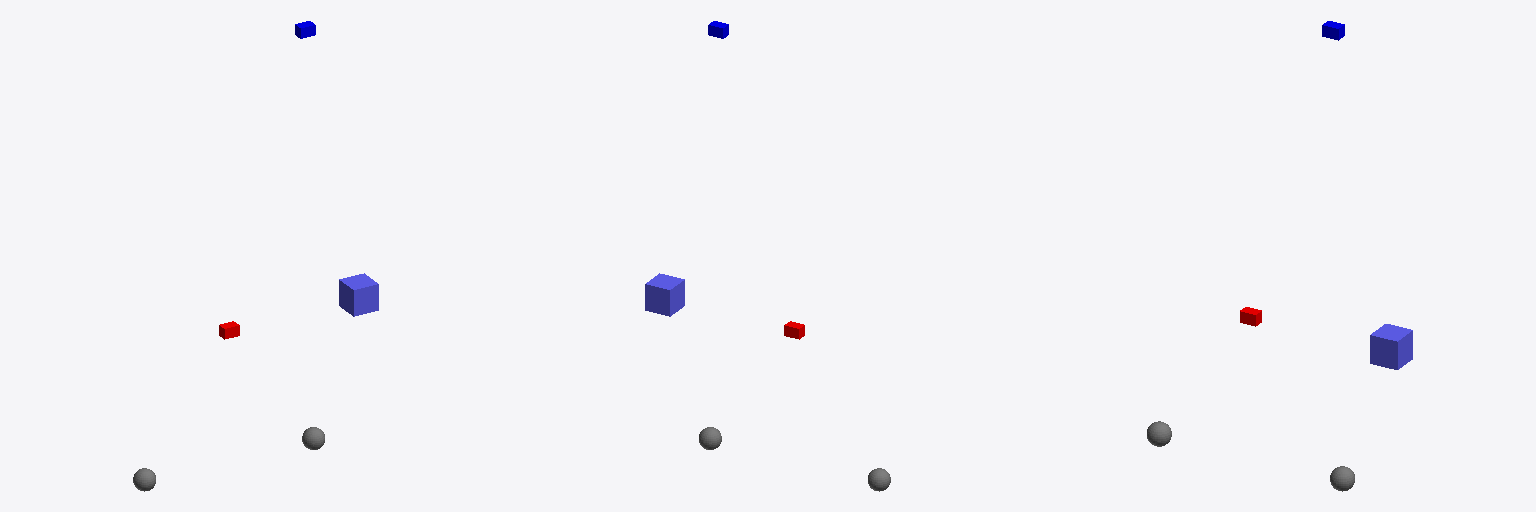
robot.urdf — yoyo_standalone:
<?xml version="1.0" ?>
<!-- =================================================================================== -->
<!-- |    This document was autogenerated by xacro from yoyo_complete.xacro            | -->
<!-- |    EDITING THIS FILE BY HAND IS NOT RECOMMENDED                                 | -->
<!-- =================================================================================== -->
<robot name="yoyo_standalone" xmlns:controller="http://playerstage.sourceforge.net/gazebo/xmlschema/#controller" xmlns:interface="http://playerstage.sourceforge.net/gazebo/xmlschema/#interface" xmlns:sensor="http://playerstage.sourceforge.net/gazebo/xmlschema/#sensor">
  <material name="white">
    <color rgba="1 1 1 0.8"/>
  </material>
  <material name="grey">
    <color rgba="0.5 0.5 0.5 1"/>
  </material>
  <material name="light_grey">
    <color rgba="0.6 0.6 0.6 0.7"/>
  </material>
  <material name="dark_grey">
    <color rgba="0.3 0.3 0.3 0.7"/>
  </material>
  <material name="black">
    <color rgba="0.1 0.1 0.1 0.8"/>
  </material>
  <material name="red">
    <color rgba="1 0 0 0.8"/>
  </material>
  <material name="green">
    <color rgba="0.0 0.8 0.0 1"/>
  </material>
  <material name="blue">
    <color rgba="0.0 0.0 1.0 1"/>
  </material>
  <material name="grey_blue">
    <color rgba="0.4 0.4 1.0 0.8"/>
  </material>
  <material name="orange">
    <color rgba="1.0 0.7 0.0 1"/>
  </material>
  <ros2_control name="GazeboSystem" type="system">
    <hardware>
      <plugin>gazebo_ros2_control/GazeboSystem</plugin>
    </hardware>
    <joint name="left_wheel_joint">
      <command_interface name="velocity">
        <param name="min">-1</param>
        <param name="max">1</param>
      </command_interface>
      <state_interface name="velocity"/>
      <state_interface name="position"/>
    </joint>
    <joint name="right_wheel_joint">
      <command_interface name="velocity">
        <param name="min">-1</param>
        <param name="max">1</param>
      </command_interface>
      <state_interface name="velocity"/>
      <state_interface name="position"/>
    </joint>
  </ros2_control>
  <gazebo>
    <plugin filename="libgazebo_ros2_control.so" name="gazebo_ros2_control">
      <robot_param>robot_description</robot_param>
      <robot_param_node>robot_state_publisher</robot_param_node>
      <parameters>[local-path]/test_ws/src/bobo_simulation/simulation_packages/romrobots_description/config/yoyo_controllers.yaml</parameters>
      <!-- Output -->
      <odometry_frame>odom</odometry_frame>
      <robot_base_frame>base_footprint</robot_base_frame>
      <publish_odom>true</publish_odom>
      <publish_odom_tf>true</publish_odom_tf>
      <publish_wheel_tf>true</publish_wheel_tf>
    </plugin>
  </gazebo>
  <gazebo reference="left_wheel_link">
    <material>Gazebo/Black</material>
    <kp>1000000.0</kp>
    <kd>10.0</kd>
    <mu1>1.2</mu1>
    <mu2>1.2</mu2>
    <fdir1>1 0 0</fdir1>
    <maxVel>0.5</maxVel>
    <minDepth>0.00</minDepth>
    <!-- <mu1>1.3</mu1>
      <mu2>1.3</mu2> -->
  </gazebo>
  <gazebo reference="right_wheel_link">
    <material>Gazebo/Black</material>
    <kp>1000000.0</kp>
    <kd>10.0</kd>
    <mu1>1.2</mu1>
    <mu2>1.2</mu2>
    <fdir1>1 0 0</fdir1>
    <maxVel>0.5</maxVel>
    <minDepth>0.00</minDepth>
    <!-- <mu1>1.3</mu1>
      <mu2>1.3</mu2> -->
  </gazebo>
  <gazebo reference="caster_front_link">
    <material>Gazebo/Black</material>
    <!-- <kp>1000000.0</kp>
      <kd>10.0</kd>
      <mu1>1.2</mu1>
      <mu2>1.2</mu2>
      <fdir1>1 0 0</fdir1>
      <maxVel>0.5</maxVel>
      <minDepth>0.00</minDepth> -->
    <mu1>1.0</mu1>
    <mu2>0.05</mu2>
  </gazebo>
  <gazebo reference="caster_back_link">
    <material>Gazebo/Black</material>
    <!-- <kp>1000000.0</kp>
      <kd>10.0</kd>
      <mu1>1.2</mu1>
      <mu2>1.2</mu2>
      <fdir1>1 0 0</fdir1>
      <maxVel>0.5</maxVel>  
      <minDepth>0.00</minDepth> -->
    <mu1>1.0</mu1>
    <mu2>0.05</mu2>
  </gazebo>
  <gazebo reference="imu_link">
    <gravity>true</gravity>
    <sensor name="imu_sensor" type="imu">
      <always_on>true</always_on>
      <update_rate>20</update_rate>
      <visualize>true</visualize>
      <topic>/imu</topic>
      <plugin filename="libgazebo_ros_imu_sensor.so" name="imu">
        <topicName>imu</topicName>
        <bodyName>imu_link</bodyName>
        <updateRateHZ>10.0</updateRateHZ>
        <gaussianNoise>0.0</gaussianNoise>
        <xyzOffset>0 0 0</xyzOffset>
        <rpyOffset>0 0 0</rpyOffset>
        <frameName>imu_link</frameName>
        <initialOrientationAsReference>false</initialOrientationAsReference>
      </plugin>
      <pose>0 0 0 0 0 0</pose>
    </sensor>
  </gazebo>
  <!-- TOP CAMERA -->
  <joint name="camera_optical_joint" type="fixed">
    <parent link="cam3d_top_link"/>
    <child link="camera_link_optical"/>
    <origin rpy="-1.57075 0 -1.57075" xyz="0 0 0"/>
    <!-- ${-pi/2} -->
  </joint>
  <link name="camera_link_optical"/>
  <gazebo reference="cam3d_top_link">
    <material>Gazebo/Blue</material>
    <sensor name="camera_top" type="depth">
      <pose>0 0 0 0 0 0</pose>
      <visualize>true</visualize>
      <update_rate>10</update_rate>
      <camera>
        <horizontal_fov>1.089</horizontal_fov>
        <image>
          <format>B8G8R8</format>
          <width>640</width>
          <height>480</height>
        </image>
        <clip>
          <near>0.05</near>
          <far>8.0</far>
        </clip>
      </camera>
      <plugin filename="libgazebo_ros_camera.so" name="camera_controller_top">
        <frame_name>camera_link_optical</frame_name>
        <min_depth>0.1</min_depth>
        <max_depth>50</max_depth>
      </plugin>
    </sensor>
  </gazebo>
  <gazebo reference="laser_link">
    <material>Gazebo/Red</material>
    <sensor name="laser" type="ray">
      <pose>0 0 0 0 0 0</pose>
      <visualize>true</visualize>
      <update_rate>20</update_rate>
      <ray>
        <scan>
          <horizontal>
            <samples>360</samples>
            <resolution>1</resolution>
            <min_angle>-2.3562</min_angle>
            <!-- -3.14 -->
            <max_angle>2.3562</max_angle>
            <!-- 3.14 -->
          </horizontal>
        </scan>
        <range>
          <min>0.5</min>
          <!-- 0.3 -->
          <max>12</max>
          <!-- 12 -->
          <resolution>0.01</resolution>
        </range>
      </ray>
      <plugin filename="libgazebo_ros_ray_sensor.so" name="laser_controller">
        <ros>
          <argument>~/out:=scan</argument>
        </ros>
        <output_type>sensor_msgs/LaserScan</output_type>
        <frame_name>laser_link</frame_name>
      </plugin>
    </sensor>
  </gazebo>
  <link name="base_footprint"/>
  <joint name="base_joint" type="fixed">
    <origin rpy="0 0 0" xyz="0 0 0.0102"/>
    <parent link="base_footprint"/>
    <child link="base_link"/>
  </joint>
  <link name="base_link">
    <inertial>
      <origin rpy="0 0 0" xyz="0.0052125 -1.3478E-05 0.19649"/>
      <mass value="1.7335"/>
      <inertia ixx="0.016138" ixy="-2.6556E-08" ixz="-0.00032505" iyy="0.018981" iyz="2.2146E-08" izz="0.031833"/>
    </inertial>
    <visual>
      <origin rpy="0 0 0" xyz="0 0 0"/>
      <geometry>
        <mesh filename="[local-path]/test_ws/src/bobo_simulation/simulation_packages/romrobots_description/meshes/base_link.STL"/>
      </geometry>
      <material name="">
        <color rgba="0.75294 0.75294 0.75294 1"/>
      </material>
    </visual>
    <collision>
      <origin rpy="0 0 0" xyz="0 0 0"/>
      <geometry>
        <mesh filename="[local-path]/test_ws/src/bobo_simulation/simulation_packages/romrobots_description/meshes/base_link.STL"/>
      </geometry>
    </collision>
  </link>
  <link name="right_wheel_link">
    <inertial>
      <origin rpy="0 0 0" xyz="-1.6048E-09 0.0026108 -2.1412E-10"/>
      <mass value="1.1347"/>
      <inertia ixx="0.0021438" ixy="1.9702E-09" ixz="8.2955E-12" iyy="0.0037129" iyz="7.9733E-10" izz="0.0021438"/>
    </inertial>
    <visual>
      <origin rpy="0 0 0" xyz="0 0 0"/>
      <geometry>
        <mesh filename="[local-path]/test_ws/src/bobo_simulation/simulation_packages/romrobots_description/meshes/right_wheel_link.STL"/>
      </geometry>
      <material name="">
        <color rgba="1 1 1 1"/>
      </material>
    </visual>
    <collision>
      <origin rpy="0 0 0" xyz="0 0 0"/>
      <geometry>
        <mesh filename="[local-path]/test_ws/src/bobo_simulation/simulation_packages/romrobots_description/meshes/right_wheel_link.STL"/>
      </geometry>
    </collision>
  </link>
  <joint name="right_wheel_joint" type="continuous">
    <origin rpy="0 0 0" xyz="-0.000499999999999182 -0.179709309933579 0.085"/>
    <parent link="base_link"/>
    <child link="right_wheel_link"/>
    <axis xyz="0 1 0"/>
  </joint>
  <link name="left_wheel_link">
    <inertial>
      <origin rpy="0 0 0" xyz="1.4724E-09 -0.0026108 -6.7344E-10"/>
      <mass value="1.1347"/>
      <inertia ixx="0.0021438" ixy="1.6515E-09" ixz="-1.1089E-11" iyy="0.0037129" iyz="-1.3379E-09" izz="0.0021438"/>
    </inertial>
    <visual>
      <origin rpy="0 0 0" xyz="0 0 0"/>
      <geometry>
        <mesh filename="[local-path]/test_ws/src/bobo_simulation/simulation_packages/romrobots_description/meshes/left_wheel_link.STL"/>
      </geometry>
      <material name="">
        <color rgba="1 1 1 1"/>
      </material>
    </visual>
    <collision>
      <origin rpy="0 0 0" xyz="0 0 0"/>
      <geometry>
        <mesh filename="[local-path]/test_ws/src/bobo_simulation/simulation_packages/romrobots_description/meshes/left_wheel_link.STL"/>
      </geometry>
    </collision>
  </link>
  <joint name="left_wheel_joint" type="continuous">
    <origin rpy="0 0 0" xyz="-0.000500000000000396 0.179709309933579 0.085"/>
    <parent link="base_link"/>
    <child link="left_wheel_link"/>
    <axis xyz="0 1 0"/>
  </joint>
  <!-- NEW CASTER -->
  <link name="front_caster_ball">
    <inertial>
      <mass value="0.1"/>
      <!-- Adjust the mass as per your robot's specs -->
      <inertia ixx="0.001" ixy="0.0" ixz="0.0" iyy="0.001" iyz="0.0" izz="0.001"/>
    </inertial>
    <visual>
      <geometry>
        <sphere radius="0.02"/>
        <!-- Radius of the caster ball -->
      </geometry>
      <material name="grey">
        <color rgba="0.5 0.5 0.5 1.0"/>
      </material>
    </visual>
    <collision>
      <geometry>
        <sphere radius="0.02"/>
        <!-- Same radius as the visual element -->
      </geometry>
    </collision>
  </link>
  <joint name="front_caster_ball_joint" type="fixed">
    <parent link="base_link"/>
    <child link="front_caster_ball"/>
    <origin rpy="0 0 0" xyz="0.16676 0 0.025"/>
    <!-- z axis 0.02 နဲ့ 0.03 ကြား -->
  </joint>
  <link name="back_caster_ball">
    <inertial>
      <mass value="0.1"/>
      <!-- Adjust the mass as per your robot's specs -->
      <inertia ixx="0.001" ixy="0.0" ixz="0.0" iyy="0.001" iyz="0.0" izz="0.001"/>
    </inertial>
    <visual>
      <geometry>
        <sphere radius="0.02"/>
        <!-- Radius of the caster ball -->
      </geometry>
      <material name="grey">
        <color rgba="0.5 0.5 0.5 1.0"/>
      </material>
    </visual>
    <collision>
      <geometry>
        <sphere radius="0.02"/>
        <!-- Same radius as the visual element -->
      </geometry>
    </collision>
  </link>
  <joint name="back_caster_ball_joint" type="fixed">
    <parent link="base_link"/>
    <child link="back_caster_ball"/>
    <origin rpy="0 0 0" xyz="-0.16676 0 0.025"/>
    <!-- z axis 0.02 နဲ့ 0.03 ကြား -->
  </joint>
  <!-- ROM ADD -->
  <!-- LASER -->
  <joint name="laser_joint" type="fixed">
    <parent link="base_link"/>
    <child link="laser_link"/>
    <!-- <origin xyz="0.156 0 0.275" rpy="0 0 0"/> -->
    <origin rpy="0 0 0" xyz="0.256 0 0.275"/>
  </joint>
  <link name="laser_link">
    <visual>
      <origin rpy="0 0 0" xyz="0 0 0.0"/>
      <geometry>
        <box size="0.05 0.05 0.05"/>
      </geometry>
      <material name="grey_blue"/>
    </visual>
    <collision>
      <origin rpy="0 0 0" xyz="0.015 0 -0.0065"/>
      <geometry>
        <cylinder length="0.0315" radius="0.055"/>
      </geometry>
    </collision>
    <!-- <inertial>
        <mass value="0.114" />
        <origin xyz="0 0 0" />
        <inertia ixx="0.001" ixy="0.0" ixz="0.0"
                 iyy="0.001" iyz="0.0"
                 izz="0.001" />
      </inertial> -->
  </link>
  <!-- 3D CAM_Top -->
  <joint name="cam3d_top_joint" type="fixed">
    <parent link="base_link"/>
    <child link="cam3d_top_link"/>
    <origin rpy="0 0 0" xyz="0.15 0 0.8"/>
  </joint>
  <link name="cam3d_top_link">
    <visual>
      <origin rpy="0 0 0" xyz="0 0 0.0"/>
      <geometry>
        <box size="0.03 0.02 0.02"/>
      </geometry>
      <material name="blue"/>
    </visual>
  </link>
  <!-- IMU -->
  <joint name="imu_joint" type="fixed">
    <parent link="base_link"/>
    <child link="imu_link"/>
    <origin rpy="0 0 0" xyz="0 0 0.268"/>
  </joint>
  <link name="imu_link">
    <visual>
      <origin rpy="0 0 0" xyz="0 0 0.0"/>
      <geometry>
        <box size="0.03 0.02 0.02"/>
      </geometry>
      <material name="red"/>
    </visual>
  </link>
</robot>

--- Facts derived from the render (not from the file) ---
The picture shows the robot from 3 angles, left to right: view 1: azimuth 30°, elevation 25°; view 2: azimuth 150°, elevation 25°; view 3: azimuth 330°, elevation 25°; orthographic projection.
Model yoyo_standalone with 10 links and 9 joints (2 continuous, 7 fixed), rooted at base_footprint, posed all joints at 0.
Visible links, largest first — view 1: laser_link; view 2: laser_link; view 3: laser_link.
Link boxes in pixels (x1=…): laser_link: x1=339, y1=273, x2=378, y2=316; laser_link: x1=645, y1=273, x2=684, y2=316; laser_link: x1=1370, y1=324, x2=1412, y2=369.
Size in the robot's own frame: 0.4678 by 0.05 by 0.805 metres.
Geometry: only primitive shapes (box / cylinder / sphere) drawn; not drawn: 3 mesh visuals (reference in a form the renderer does not follow).
